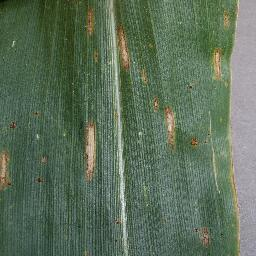Gray_Leaf_Spot: (201, 107, 221, 200), (229, 134, 244, 256), (79, 116, 101, 191), (111, 23, 135, 71), (206, 39, 227, 88), (161, 98, 180, 148), (105, 215, 127, 256), (0, 151, 16, 195), (64, 214, 87, 235), (85, 4, 98, 36), (142, 180, 154, 214), (30, 128, 50, 148), (233, 0, 243, 40), (218, 9, 232, 36), (55, 0, 79, 15), (197, 221, 211, 246), (7, 36, 26, 54), (86, 48, 106, 65), (3, 120, 25, 132), (26, 154, 52, 164), (136, 122, 145, 148), (33, 109, 49, 123), (140, 70, 156, 84), (32, 174, 50, 185), (186, 136, 196, 155), (152, 96, 162, 113), (62, 126, 68, 145), (78, 247, 90, 256)
